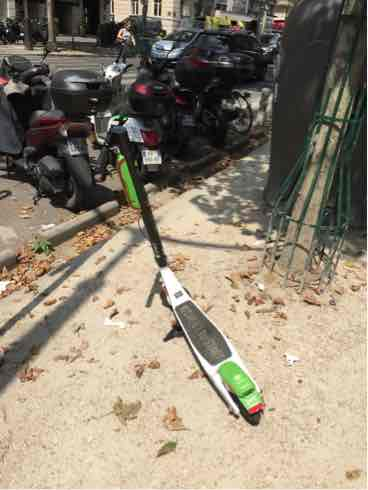scooter: (88, 100, 286, 430)
